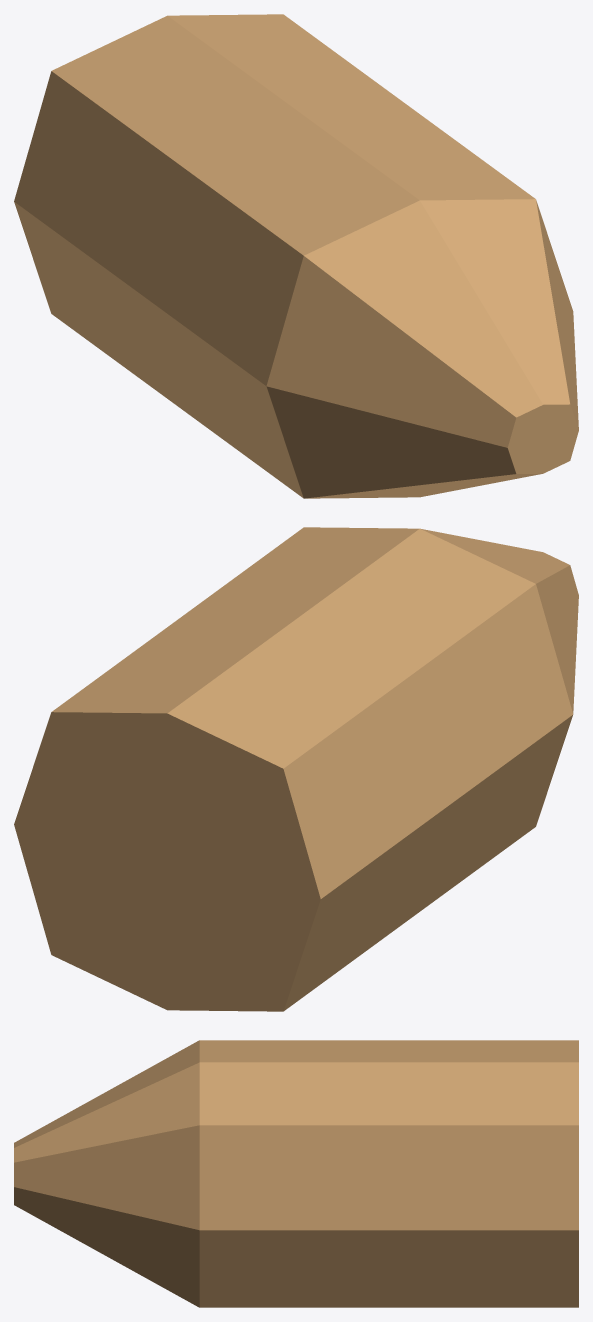
File: Bullet.fbx
The picture shows the model from 3 angles, top to bottom: view 1: azimuth 30°, elevation 25°; view 2: azimuth 150°, elevation 25°; view 3: azimuth 270°, elevation 25°; orthographic projection. The views are drawn at different scales.
Visible parts, largest first — view 1: Cube; view 2: Cube; view 3: Cube.
Boxes of the visible parts, x1,y1,x2,y2 form: Cube: [14, 14, 578, 498]; Cube: [14, 527, 578, 1011]; Cube: [14, 1040, 578, 1307].
Bounding box in the file's own units: 106 × 98.11 × 225.
